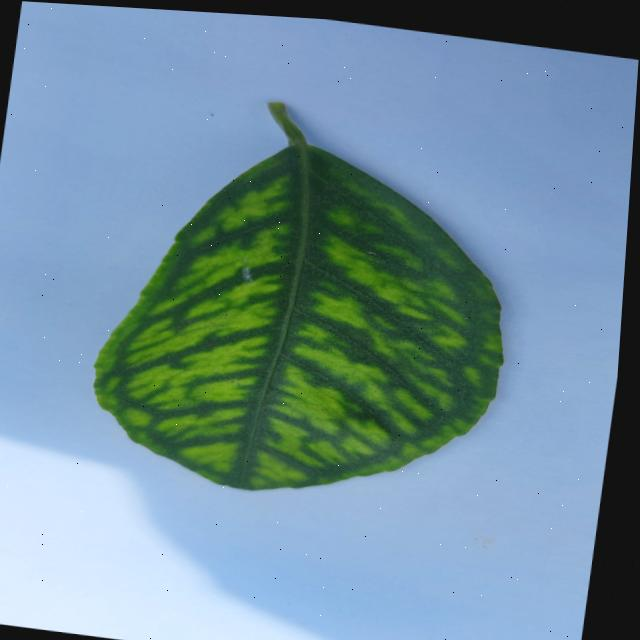greening: (94, 102, 502, 490)
